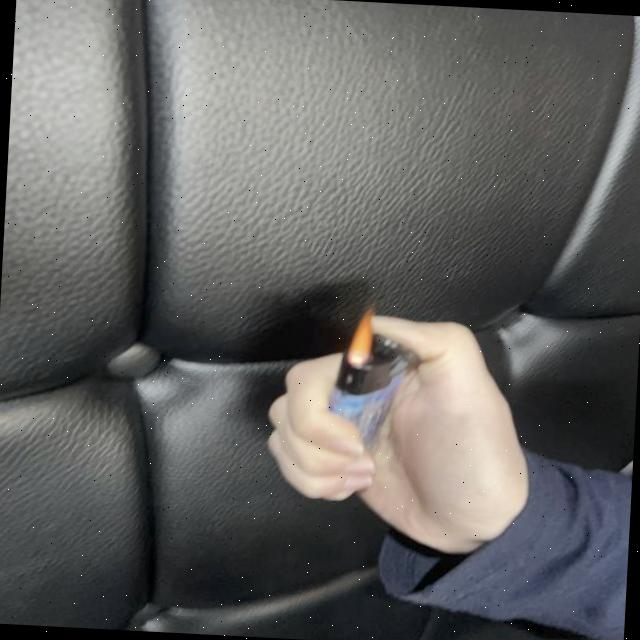fire: (341, 305, 382, 369)
